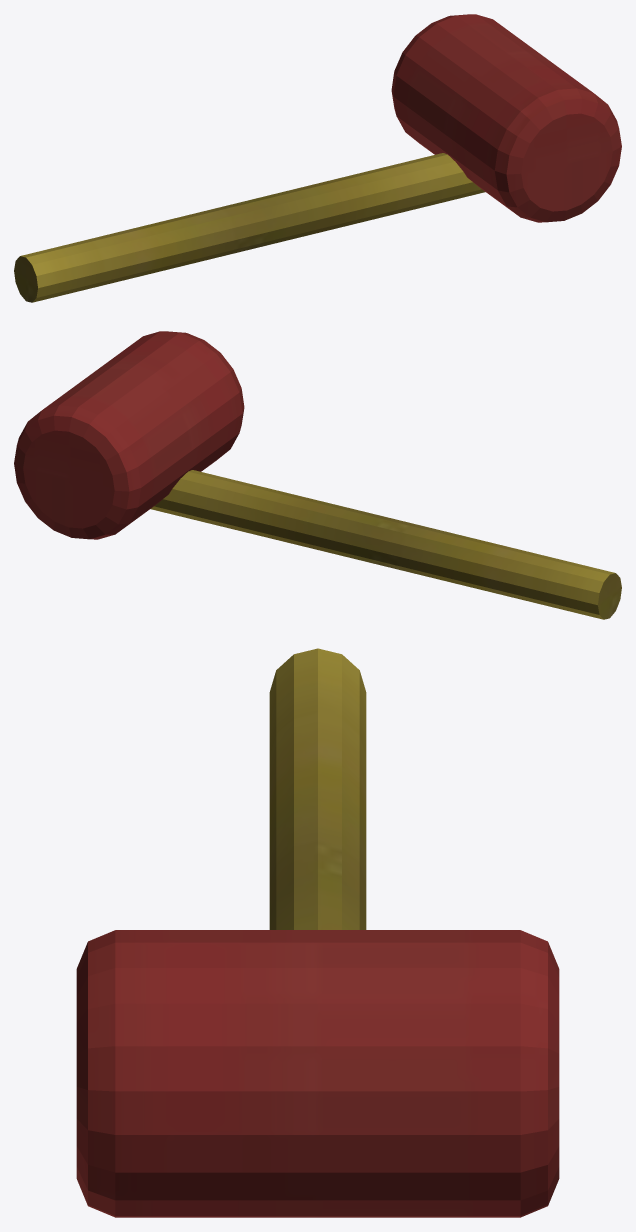
Rendered from TY40_ToyHammer.glb.
3 renders of one model, top to bottom at view 1: azimuth 30°, elevation 25°; view 2: azimuth 150°, elevation 25°; view 3: azimuth 270°, elevation 25°, orthographic. The views are drawn at different scales.
Parts seen in each view (by area): view 1: TY40_ToyHammer; view 2: TY40_ToyHammer; view 3: TY40_ToyHammer.
Part boxes in pixels (x1,y1,x2,y2): TY40_ToyHammer: (14, 14, 621, 302); TY40_ToyHammer: (14, 331, 621, 619); TY40_ToyHammer: (76, 648, 559, 1217).
Size of the model in its own units: 0.3 by 0.0692 by 0.1154.
Materials: 2 (2 with a texture image).
